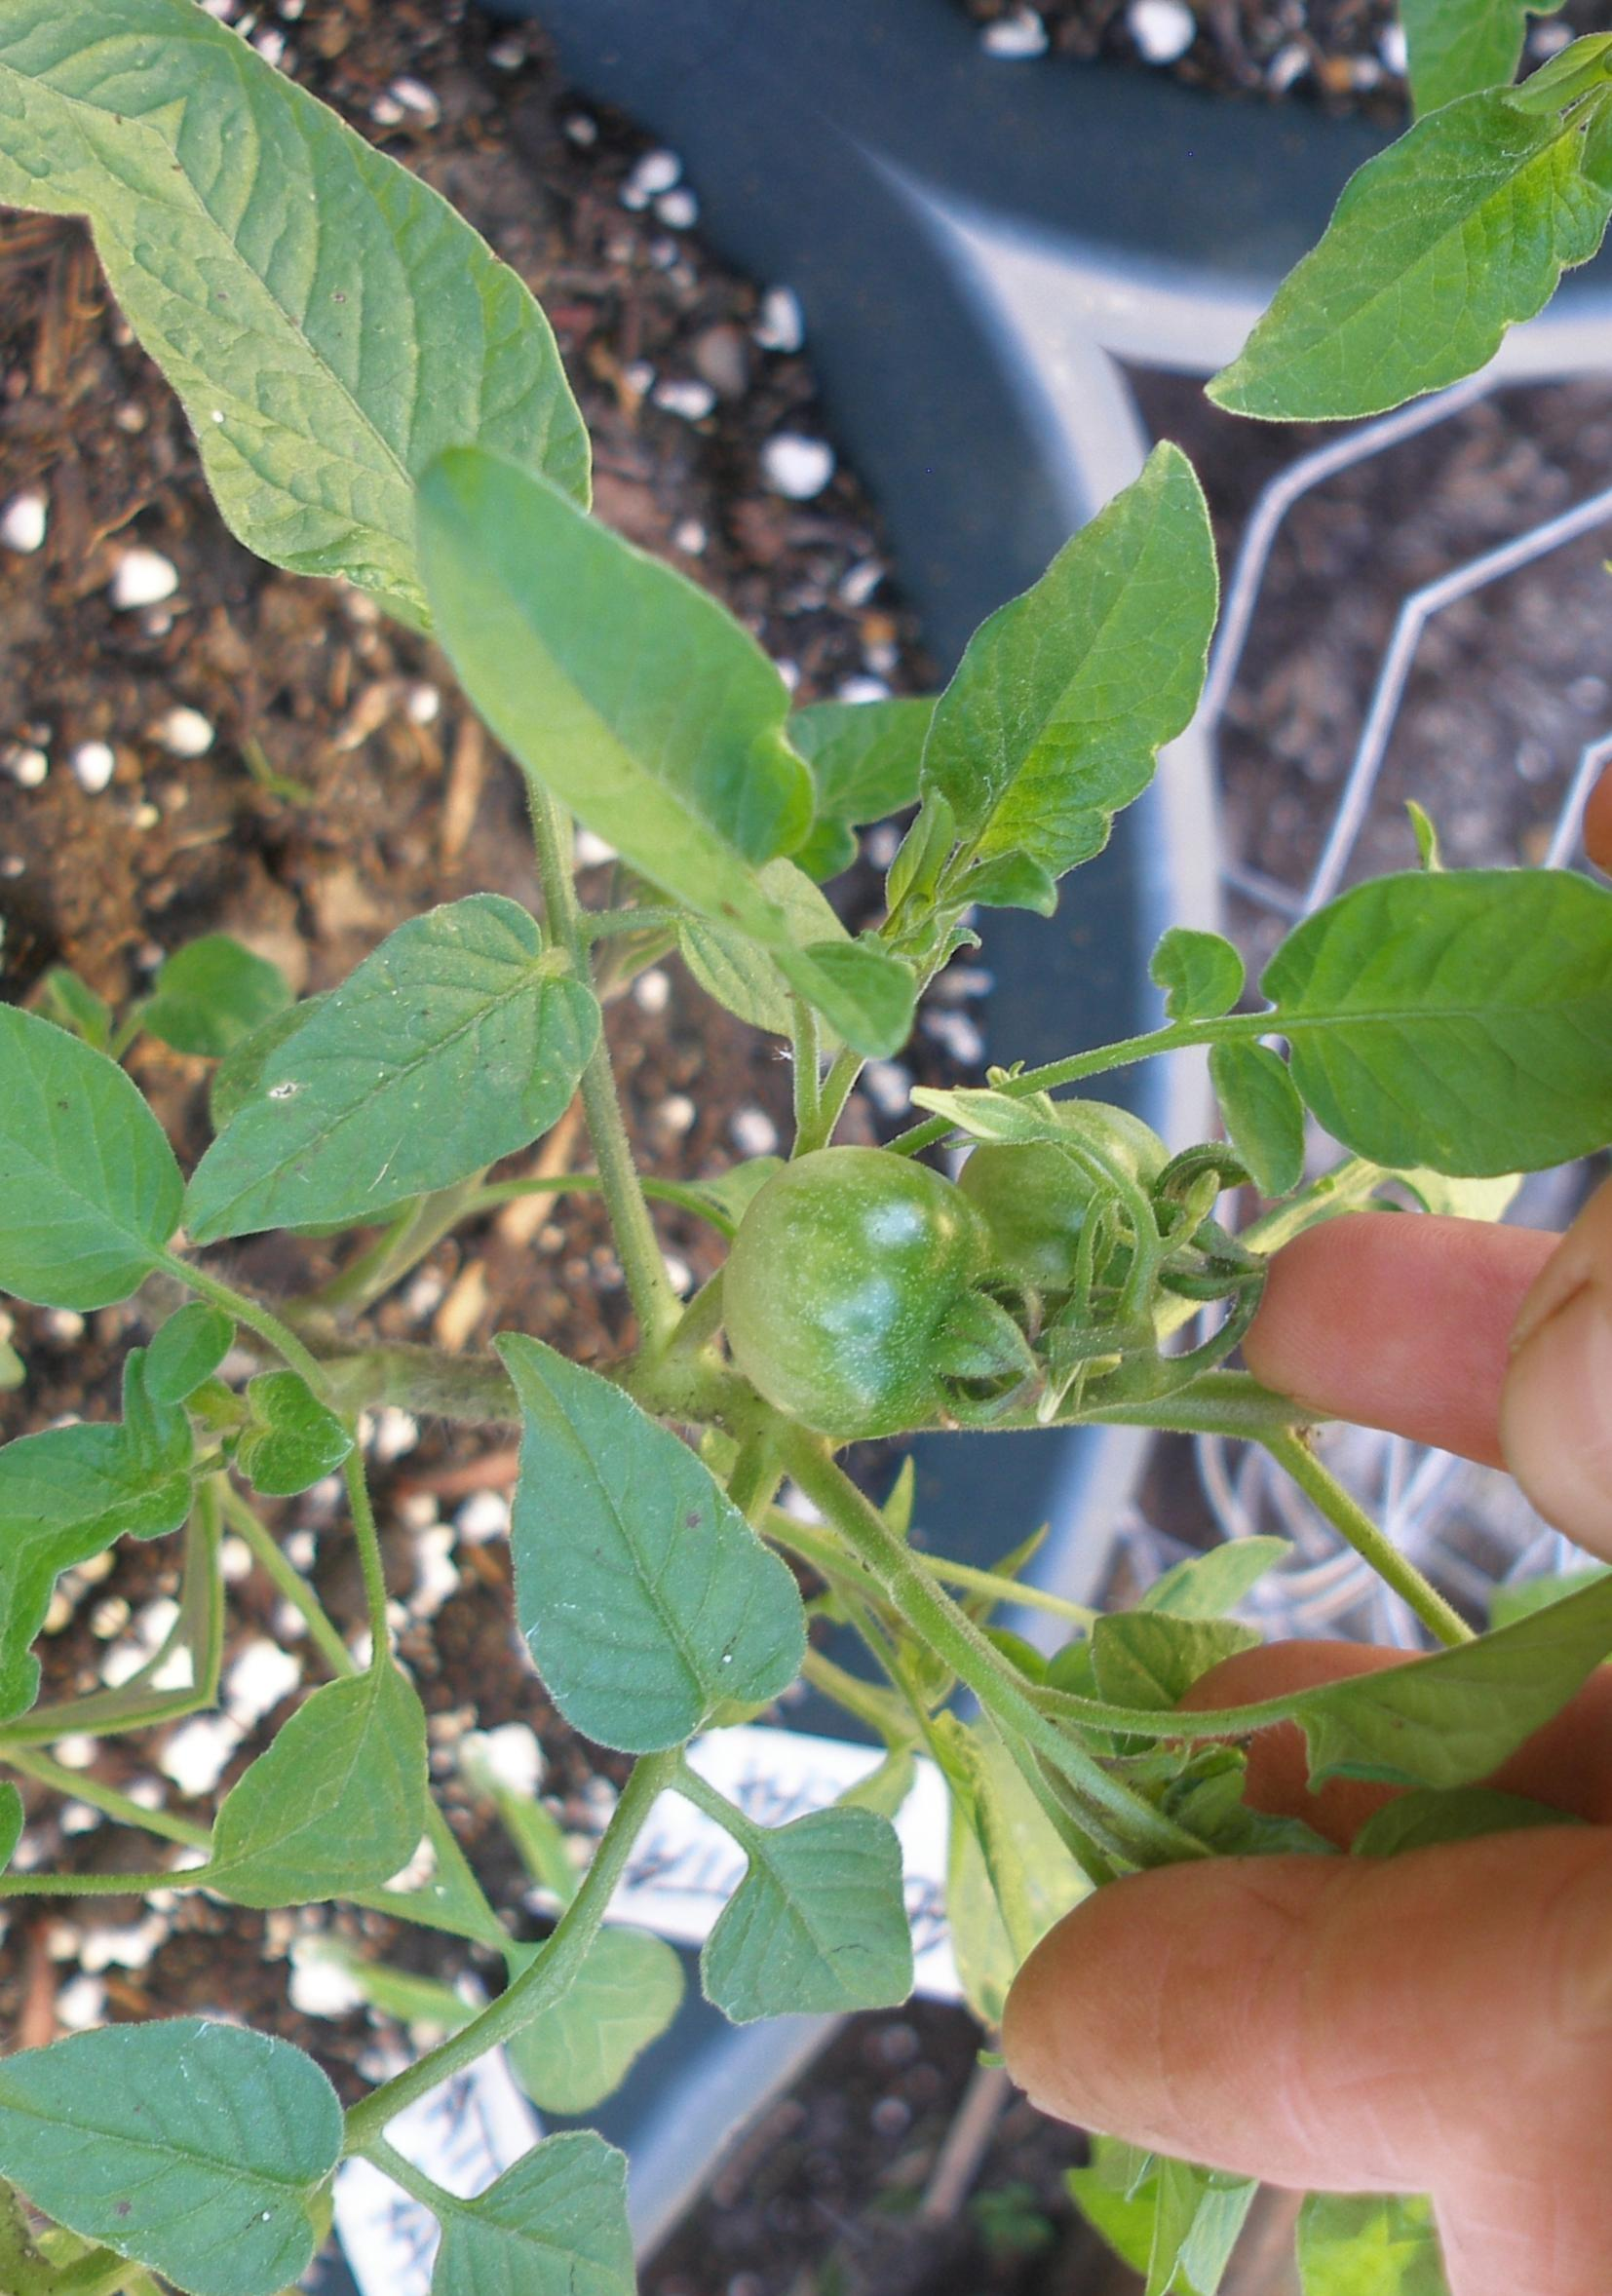Tomato leaf: (0, 0, 769, 818), (80, 754, 703, 1397), (1108, 623, 1612, 1363), (281, 366, 900, 944), (839, 352, 1418, 935), (340, 1281, 916, 1858), (0, 834, 288, 1411), (0, 1265, 309, 1640)
